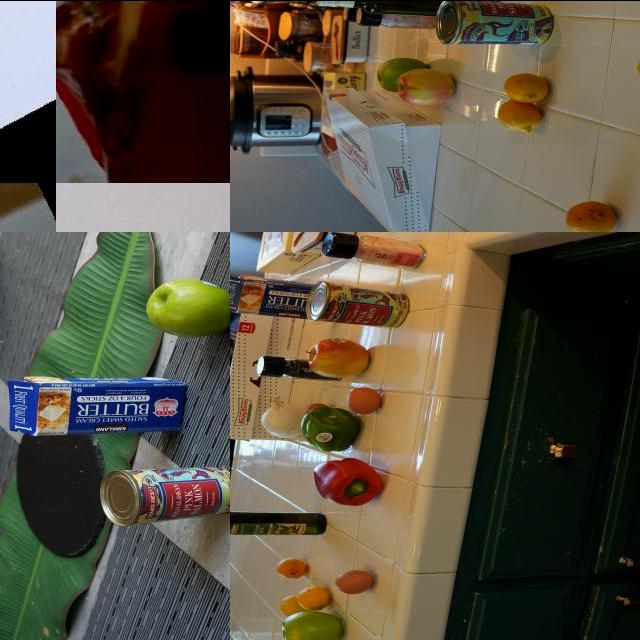bell_pepper: (314, 453, 387, 507), (303, 405, 359, 454), (254, 355, 346, 383)
egg: (335, 567, 377, 597), (348, 385, 390, 415)
onion: (260, 398, 312, 444)
